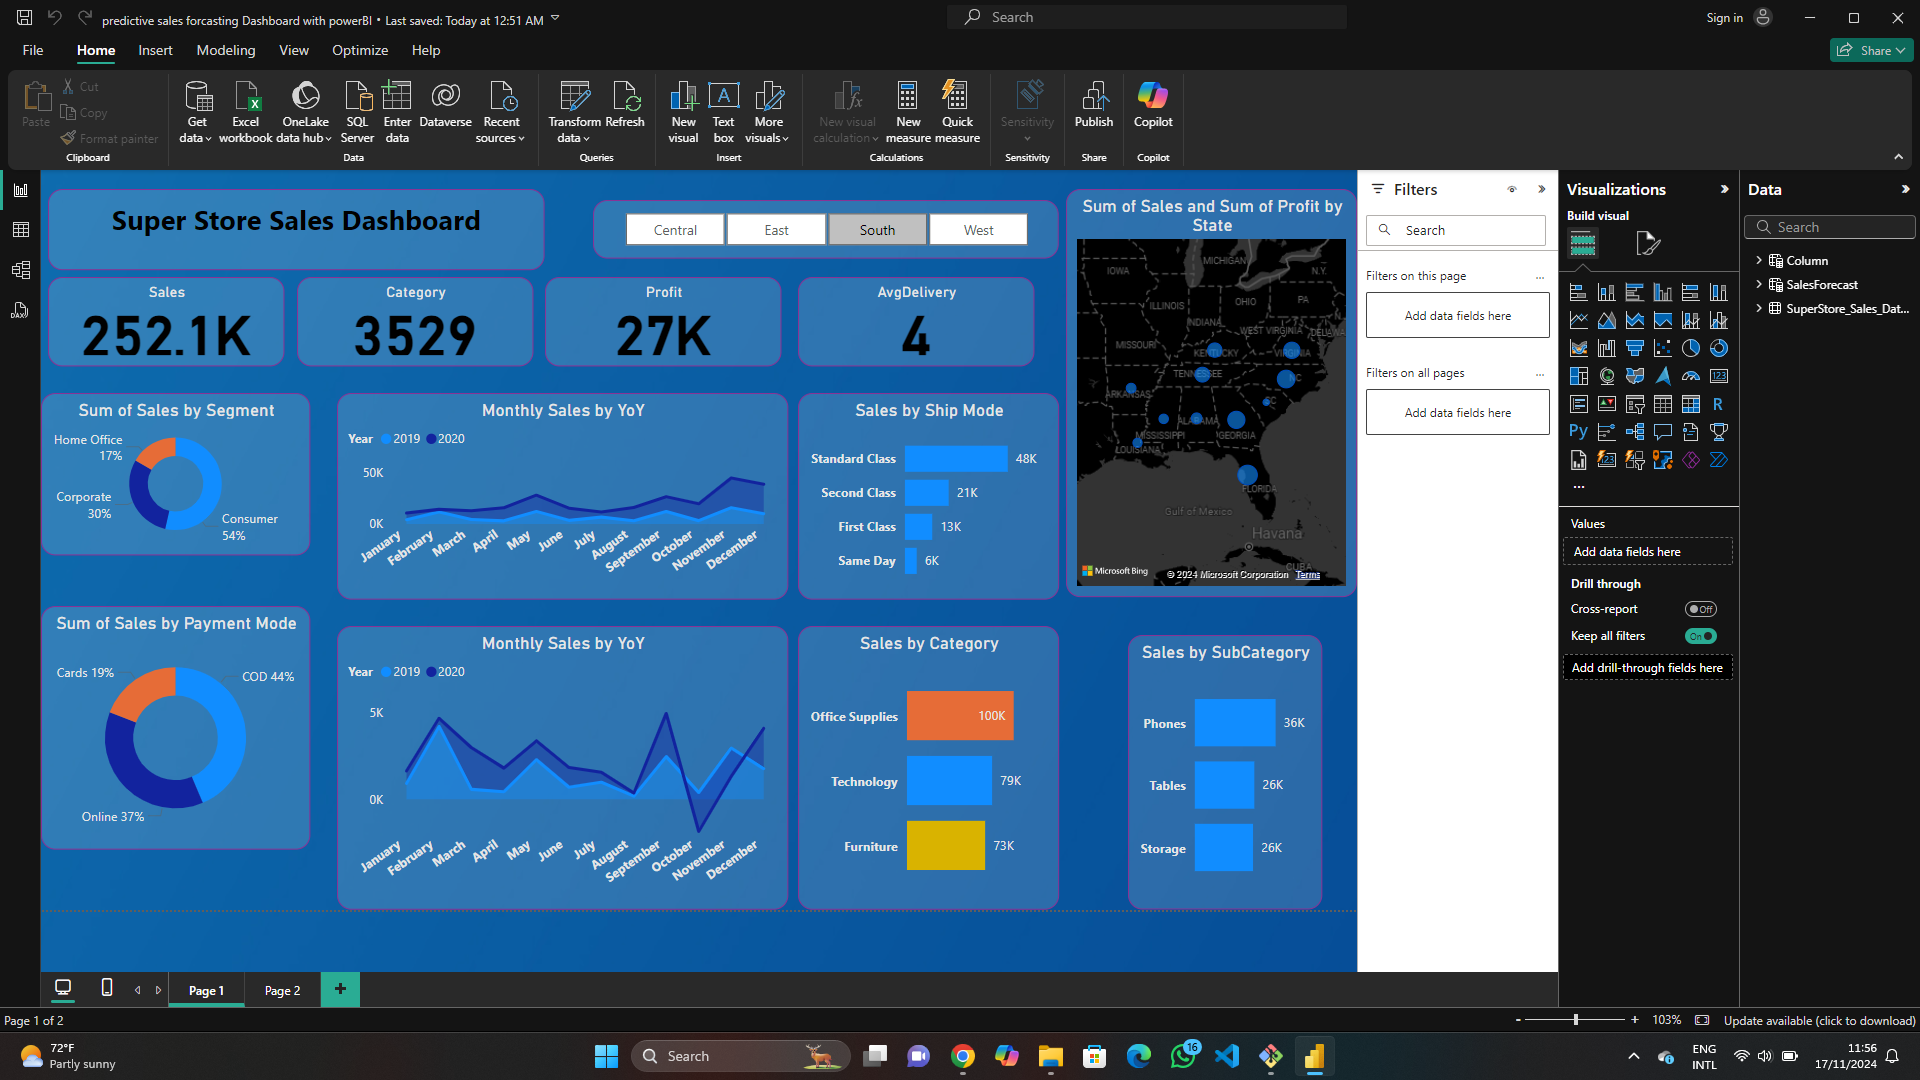

The dashboard page shown, as its layout file describes it:
{"tool":"powerbi","page":{"name":"Page 1","canvas":[1280,720],"ordinal":0},"visuals":[{"type":"clusteredBarChart","title":" Sales by Category","fields":{"Category":["SuperStore_Sales_Dataset.Category"],"Y":["Sum(SuperStore_Sales_Dataset.Sales)"]},"box":[736.3,443.5,253.9,276.2],"z":0},{"type":"clusteredBarChart","title":" Sales by SubCategory","fields":{"Category":["SuperStore_Sales_Dataset.Sub-Category","SuperStore_Sales_Dataset.Category"],"Y":["Sum(SuperStore_Sales_Dataset.Sales)"]},"box":[1057.3,452.3,188.7,267.5],"z":1000},{"type":"clusteredBarChart","title":" Sales by Ship Mode","fields":{"Y":["Sum(SuperStore_Sales_Dataset.Sales)"],"Category":["SuperStore_Sales_Dataset.Ship Mode"]},"box":[736.3,216.9,253.9,201.3],"z":2000},{"type":"stackedAreaChart","title":"Monthly Sales by YoY","fields":{"Y":["Sum(SuperStore_Sales_Dataset.Sales)"],"Category":["SuperStore_Sales_Dataset.Order Date.Variation.Date Hierarchy.Month","SuperStore_Sales_Dataset.Order Date.Variation.Date Hierarchy.Day"],"Series":["SuperStore_Sales_Dataset.Order Date.Variation.Date Hierarchy.Year"]},"box":[287.9,216.9,438.7,201.3],"z":3000},{"type":"stackedAreaChart","title":"Monthly Sales by YoY","fields":{"Category":["SuperStore_Sales_Dataset.Order Date.Variation.Date Hierarchy.Month","SuperStore_Sales_Dataset.Order Date.Variation.Date Hierarchy.Day"],"Series":["SuperStore_Sales_Dataset.Order Date.Variation.Date Hierarchy.Year"],"Y":["Sum(SuperStore_Sales_Dataset.Profit)"]},"box":[287.9,443.5,438.7,276.2],"z":4000},{"type":"map","fields":{"Category":["SuperStore_Sales_Dataset.State"],"Size":["Sum(SuperStore_Sales_Dataset.Sales)"]},"box":[997,18.5,283,396.8],"z":5000},{"type":"donutChart","fields":{"Category":["SuperStore_Sales_Dataset.Segment"],"Y":["Sum(SuperStore_Sales_Dataset.Sales)"]},"box":[0,216.9,261.6,157.6],"z":6000},{"type":"donutChart","fields":{"Y":["Sum(SuperStore_Sales_Dataset.Sales)"],"Category":["SuperStore_Sales_Dataset.Payment Mode"]},"box":[0,424.1,261.6,237.3],"z":7000},{"type":"slicer","fields":{"Values":["SuperStore_Sales_Dataset.Region"]},"box":[536.9,29.2,453.3,57.4],"z":8000},{"type":"textbox","box":[6.8,18.5,483.4,78.8],"z":9000},{"type":"card","title":"Sales","fields":{"Values":["Sum(SuperStore_Sales_Dataset.Sales)"]},"box":[6.8,104.1,229.5,86.6],"z":10000},{"type":"card","title":"Category","fields":{"Values":["Sum(SuperStore_Sales_Dataset.Quantity)"]},"box":[249,104.1,229.5,86.6],"z":11000},{"type":"card","title":"Profit","fields":{"Values":["Sum(SuperStore_Sales_Dataset.Profit)"]},"box":[490.2,104.1,229.5,86.6],"z":12000},{"type":"card","title":"AvgDelivery","fields":{"Values":["Avg(SuperStore_Sales_Dataset.AvgDelivery)"]},"box":[736.3,104.1,229.5,86.6],"z":13000}]}

Visuals, with their boxes on the page's 1280x720 design canvas (x1, y1, x2, y2). These are canvas units, not pixel positions in the 1920x1080 screenshot, which may show the page scaled, cropped or inside an application window:
" Sales by Category" clusteredBarChart: <bbox>736, 444, 990, 720</bbox>
" Sales by SubCategory" clusteredBarChart: <bbox>1057, 452, 1246, 720</bbox>
" Sales by Ship Mode" clusteredBarChart: <bbox>736, 217, 990, 418</bbox>
"Monthly Sales by YoY" stackedAreaChart: <bbox>288, 217, 727, 418</bbox>
"Monthly Sales by YoY" stackedAreaChart: <bbox>288, 444, 727, 720</bbox>
map - SuperStore_Sales_Dataset.State x Sum(SuperStore_Sales_Dataset.Sales): <bbox>997, 18, 1280, 415</bbox>
donutChart - SuperStore_Sales_Dataset.Segment x Sum(SuperStore_Sales_Dataset.Sales): <bbox>0, 217, 262, 374</bbox>
donutChart - Sum(SuperStore_Sales_Dataset.Sales) x SuperStore_Sales_Dataset.Payment Mode: <bbox>0, 424, 262, 661</bbox>
slicer - SuperStore_Sales_Dataset.Region: <bbox>537, 29, 990, 87</bbox>
textbox: <bbox>7, 18, 490, 97</bbox>
"Sales" card: <bbox>7, 104, 236, 191</bbox>
"Category" card: <bbox>249, 104, 478, 191</bbox>
"Profit" card: <bbox>490, 104, 720, 191</bbox>
"AvgDelivery" card: <bbox>736, 104, 966, 191</bbox>
